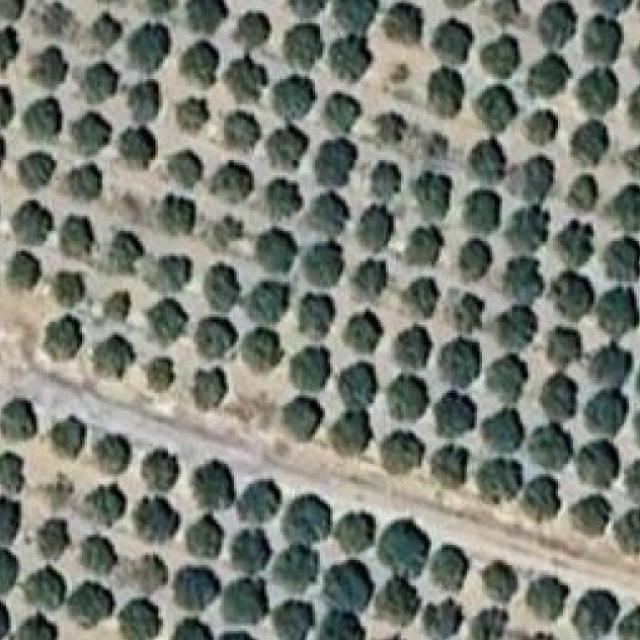Tree: (377, 520, 428, 578), (322, 560, 373, 613), (281, 494, 330, 545), (570, 590, 619, 638), (373, 575, 418, 626), (270, 545, 317, 593), (67, 580, 115, 627), (189, 461, 234, 511), (549, 271, 593, 322), (506, 155, 553, 202), (220, 578, 266, 625), (528, 423, 573, 471), (437, 337, 479, 388), (173, 565, 219, 611), (586, 342, 631, 389), (505, 206, 550, 253), (595, 290, 639, 338), (327, 408, 371, 456), (327, 33, 371, 81), (584, 391, 629, 437), (314, 138, 357, 186), (145, 297, 188, 345), (486, 355, 528, 404), (525, 54, 570, 99), (477, 459, 522, 504), (222, 57, 266, 103), (91, 334, 135, 380), (134, 496, 178, 542), (127, 23, 168, 72), (479, 408, 523, 453), (577, 442, 619, 489), (430, 18, 472, 65), (476, 84, 517, 132), (301, 241, 342, 289), (20, 565, 64, 609), (237, 479, 281, 523), (574, 69, 616, 115), (432, 391, 474, 437), (502, 256, 543, 303), (337, 363, 378, 410), (581, 16, 621, 64), (379, 431, 423, 474), (525, 578, 568, 622), (255, 228, 297, 273), (538, 1, 576, 50), (427, 67, 464, 117), (265, 125, 307, 169), (240, 327, 282, 371), (116, 598, 160, 640), (271, 77, 315, 119), (387, 375, 428, 420), (281, 395, 322, 440), (307, 190, 347, 236), (290, 347, 330, 393), (413, 173, 452, 220), (496, 305, 538, 348), (10, 201, 52, 244), (33, 3, 77, 44), (429, 545, 469, 590), (231, 530, 271, 575), (283, 23, 322, 69), (203, 264, 239, 313), (342, 310, 383, 353), (479, 36, 519, 80), (210, 164, 254, 204), (570, 120, 609, 165), (521, 478, 560, 523), (180, 41, 219, 86), (140, 256, 188, 292), (568, 494, 609, 536), (272, 600, 315, 640), (383, 3, 423, 46), (22, 97, 62, 140), (44, 314, 82, 359), (557, 221, 593, 268), (539, 373, 575, 420), (85, 484, 125, 526), (431, 444, 470, 487), (248, 282, 287, 325), (70, 112, 109, 155), (393, 325, 431, 369), (604, 235, 640, 281), (357, 206, 393, 252), (422, 597, 462, 638), (193, 319, 234, 359), (322, 92, 361, 134), (28, 47, 67, 89), (140, 449, 178, 492), (468, 137, 504, 182), (333, 513, 373, 553), (184, 514, 221, 557), (0, 397, 37, 440), (463, 190, 499, 234), (297, 294, 332, 339), (406, 226, 445, 266), (402, 276, 439, 318), (118, 128, 155, 170), (107, 231, 143, 274), (350, 259, 386, 301), (545, 327, 580, 370), (482, 560, 517, 603), (191, 368, 226, 411), (49, 416, 84, 459), (265, 179, 302, 219), (159, 195, 195, 236), (6, 251, 42, 292), (93, 436, 130, 475), (81, 535, 117, 575), (83, 62, 118, 103), (60, 216, 94, 258), (35, 520, 69, 561), (336, 0, 379, 32), (167, 150, 204, 187), (234, 13, 269, 52), (224, 112, 259, 151), (459, 239, 492, 280), (135, 555, 168, 595), (612, 185, 640, 232), (186, 0, 227, 32), (17, 155, 54, 190), (319, 612, 364, 640), (614, 507, 640, 555), (129, 82, 158, 124), (567, 175, 599, 213), (454, 294, 484, 334), (68, 166, 102, 201), (175, 99, 209, 133), (92, 13, 123, 50), (372, 163, 401, 202), (471, 608, 505, 640), (373, 112, 406, 144), (0, 451, 25, 492), (54, 274, 84, 308), (19, 612, 55, 640), (171, 617, 214, 640), (526, 112, 555, 146), (144, 357, 173, 391), (616, 139, 640, 180), (0, 496, 19, 544), (621, 457, 640, 505), (385, 57, 413, 89), (0, 547, 19, 593), (212, 216, 241, 246), (0, 25, 19, 69), (102, 292, 128, 323), (490, 0, 518, 26), (620, 605, 640, 640), (626, 79, 640, 129), (290, 0, 328, 17), (425, 133, 449, 159), (220, 624, 259, 640), (142, 1, 178, 18), (0, 87, 14, 130), (522, 626, 565, 640), (0, 130, 14, 170), (629, 408, 640, 452), (0, 0, 24, 19), (0, 597, 9, 640), (379, 631, 409, 640)
